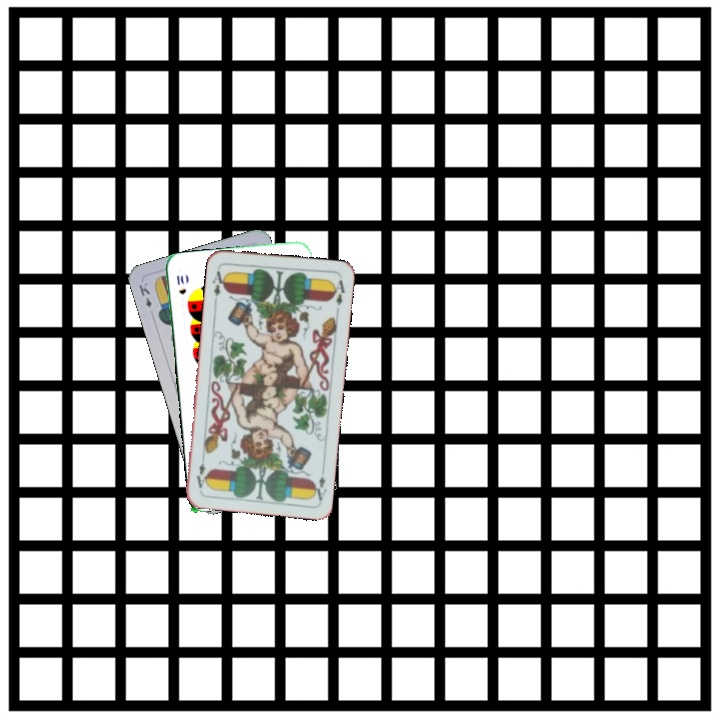EA: (208, 264, 229, 304), (309, 463, 329, 503)
EK: (135, 278, 154, 310)
S10: (173, 271, 189, 297)
